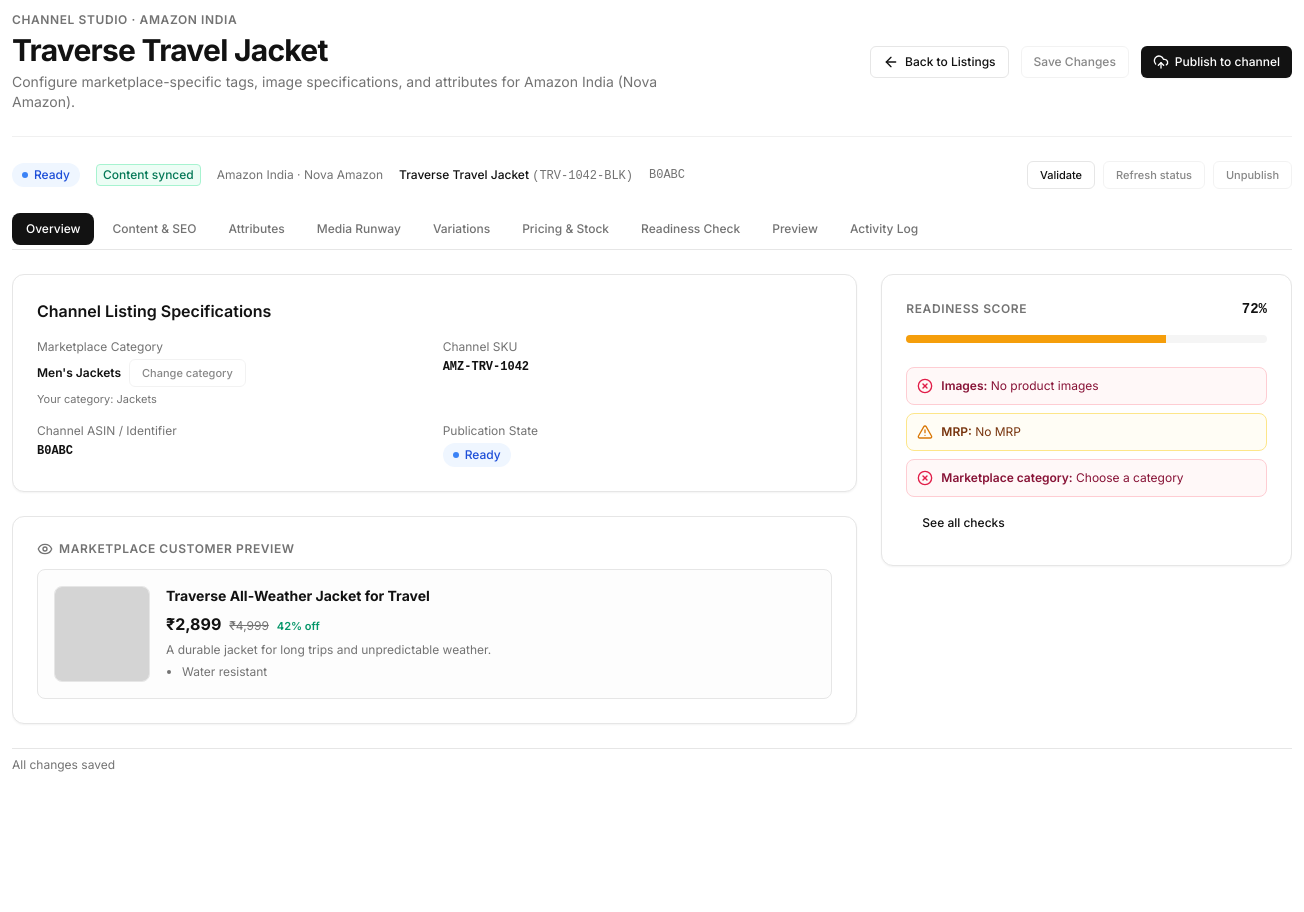
Test: editing and saving › locks attributes on a live listing
This screenshot has width=1304, height=912.
Click the tab "Attributes".
click(257, 229)  # box [214,213,299,245]
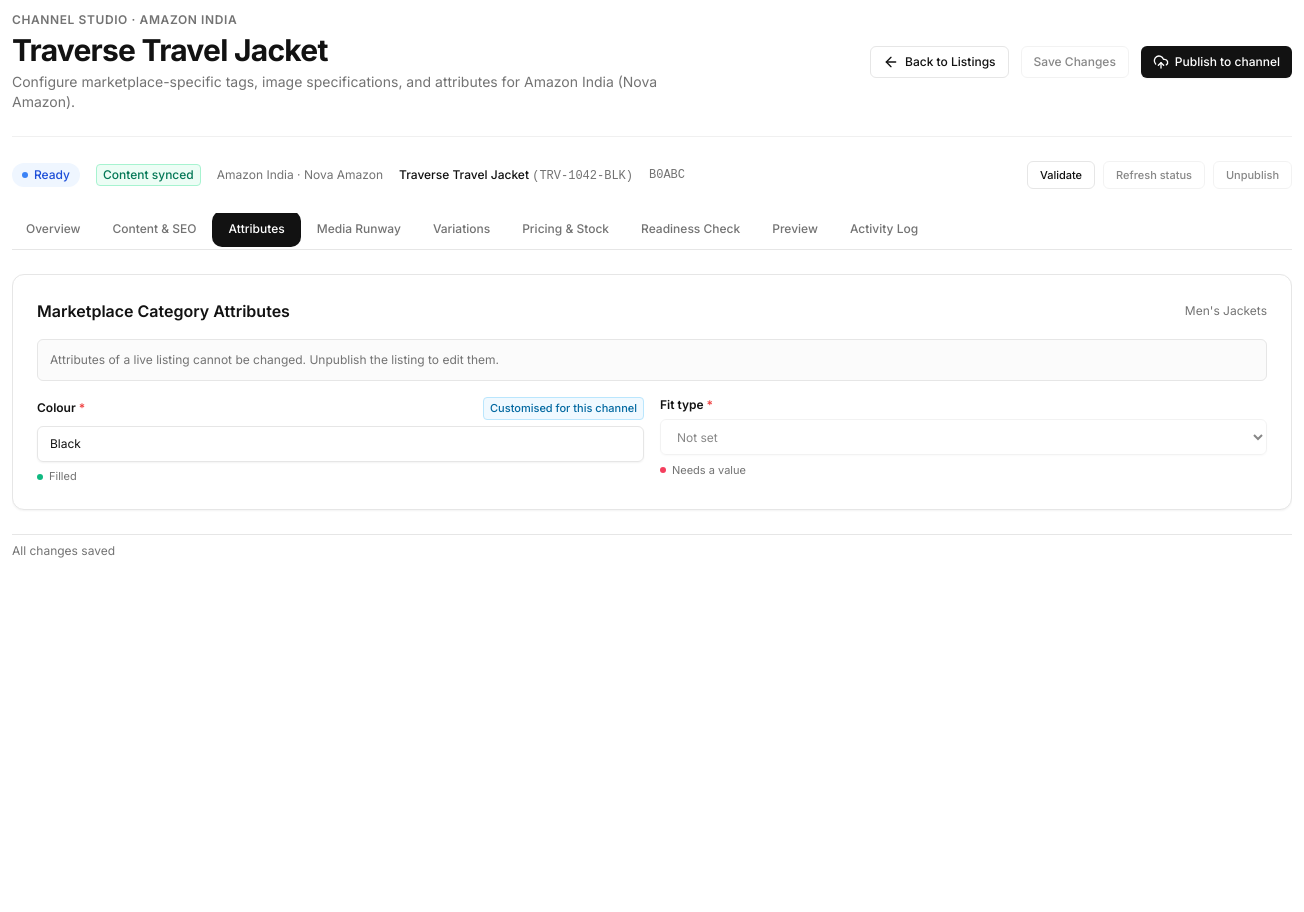
expect the button "Save Changes" is disabled: met, box [1020,46,1129,78]
expect the text "cannot be changed. Unpublish" is shown: met, box [50,352,499,367]
expect the dropdown labelled "Fit type *" is disabled: met, box [660,419,1267,455]
